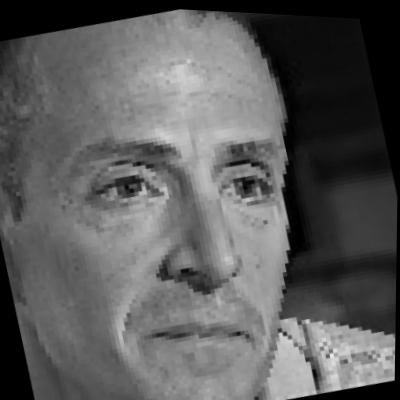sad: (0, 0, 346, 400)
